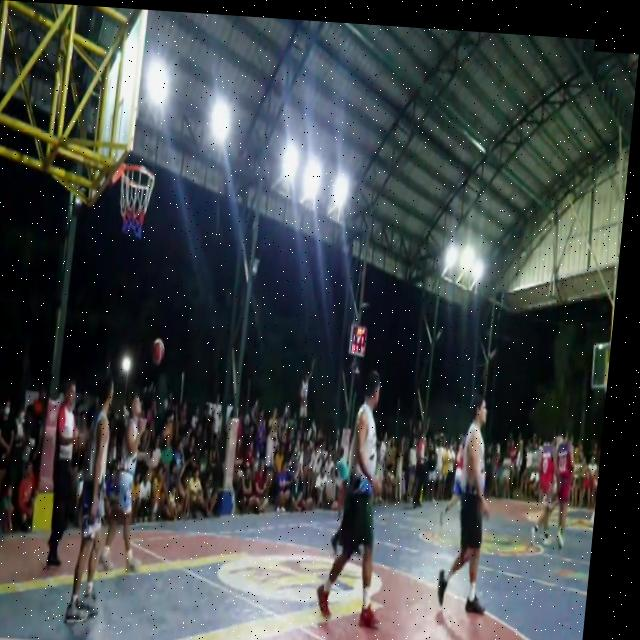basketball: (150, 337, 167, 369)
hoop: (109, 151, 160, 246)
